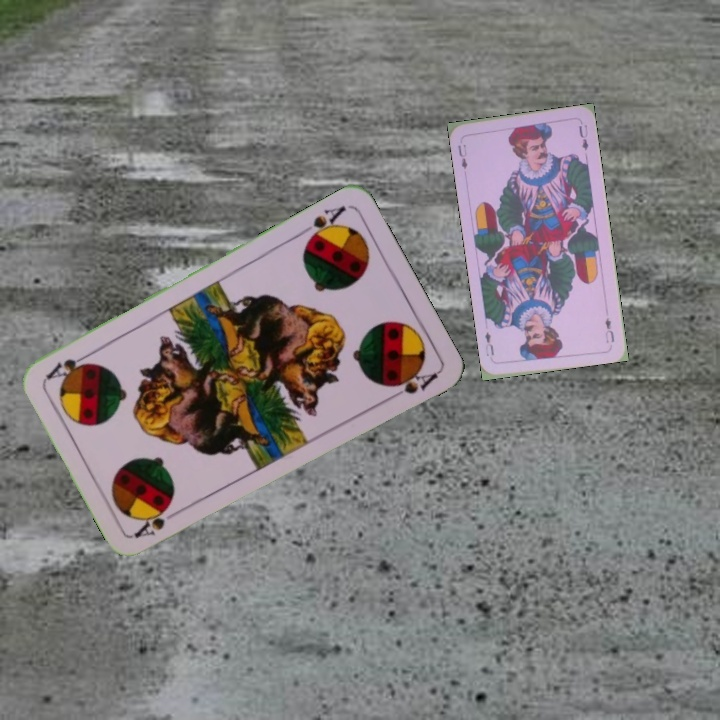EU: (454, 140, 470, 172), (601, 314, 617, 346)
SA: (295, 201, 349, 246), (130, 504, 185, 541)
